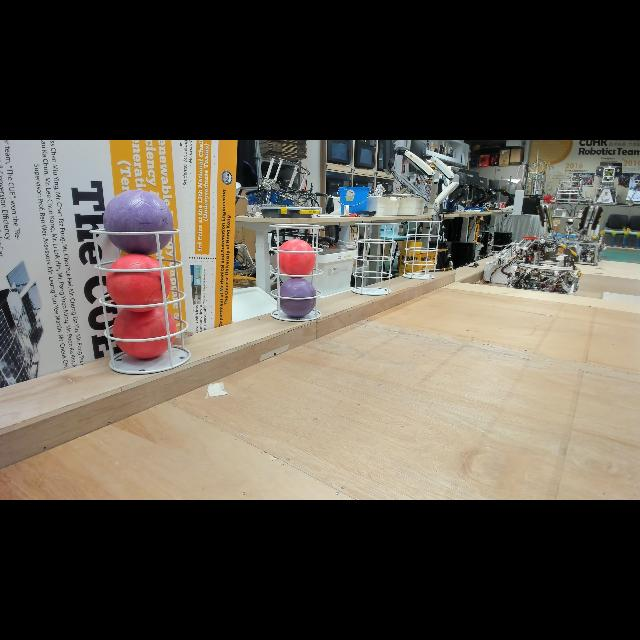P: (102, 190, 174, 256), (277, 278, 317, 318)
R: (105, 253, 171, 313), (112, 304, 178, 361), (276, 239, 316, 279)
S: (88, 225, 192, 378), (268, 223, 324, 323), (351, 222, 397, 296), (402, 218, 442, 280)
